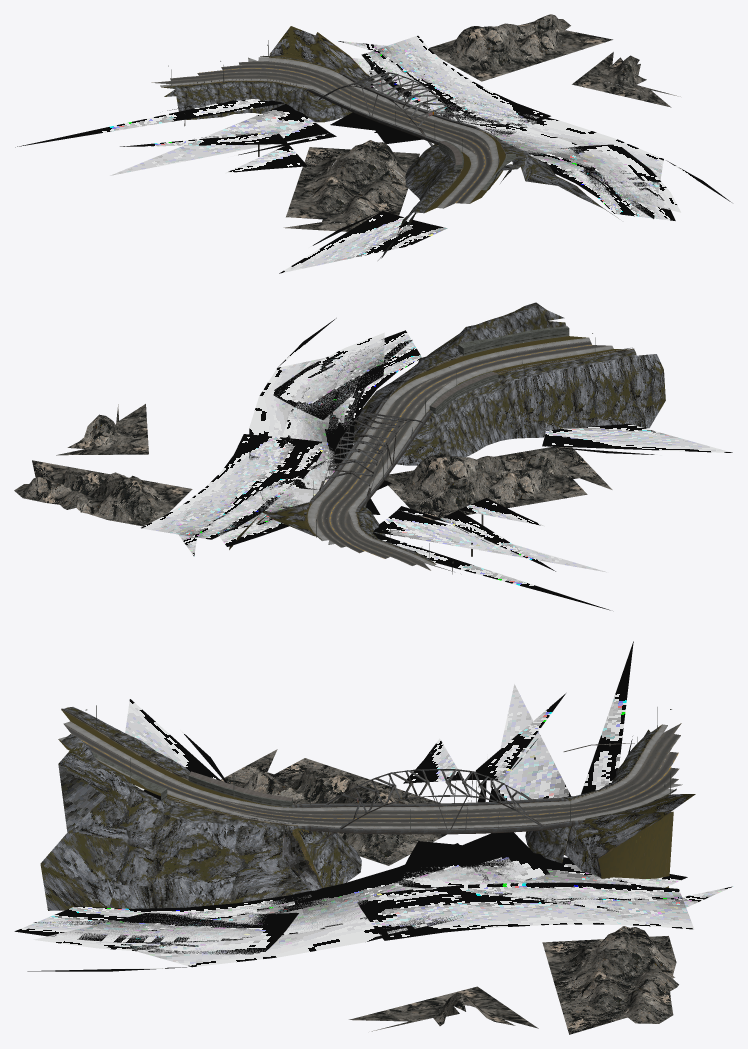
The model's file is world_camden_16_-13.gltf.
The picture shows the model from 3 angles, top to bottom: view 1: azimuth 30°, elevation 25°; view 2: azimuth 150°, elevation 25°; view 3: azimuth 270°, elevation 25°; orthographic projection. The views are drawn at different scales.
Size of the model in its own units: 372 by 52.05 by 302.
Materials: 30 (30 with a texture image).
